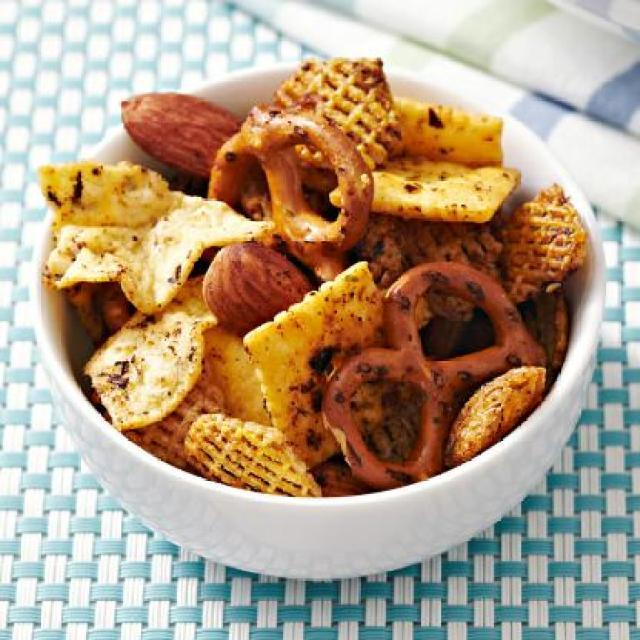Salatini packaged: (35, 60, 577, 520)
